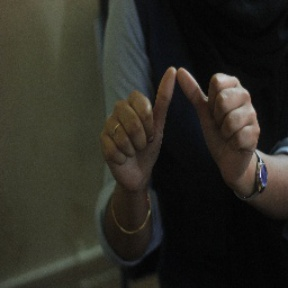A: (98, 64, 261, 175)
